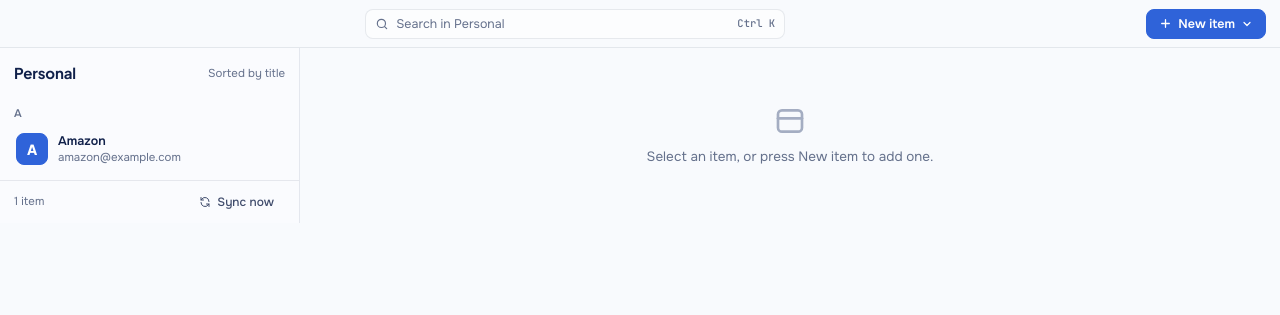
VaultScreen list › syncs on demand, picking up changes from another device
This screenshot has width=1280, height=315.
Expected: the text "Amazon" is shown, [58,133,106,149]
What coordinates should you click on to do the following:
click the button "Sync now"
I would click on:
 (237, 202)
Its box is [188,189,285,215].
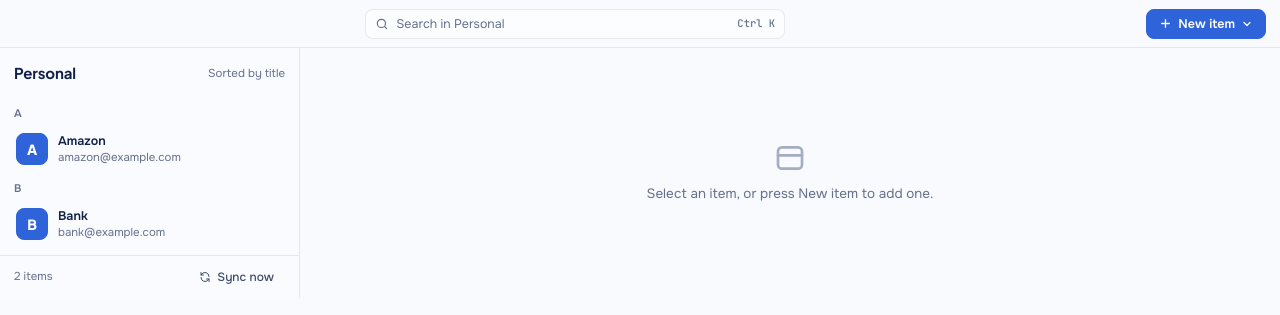
Now the text "Bank" is shown, box [58,208,88,224]
